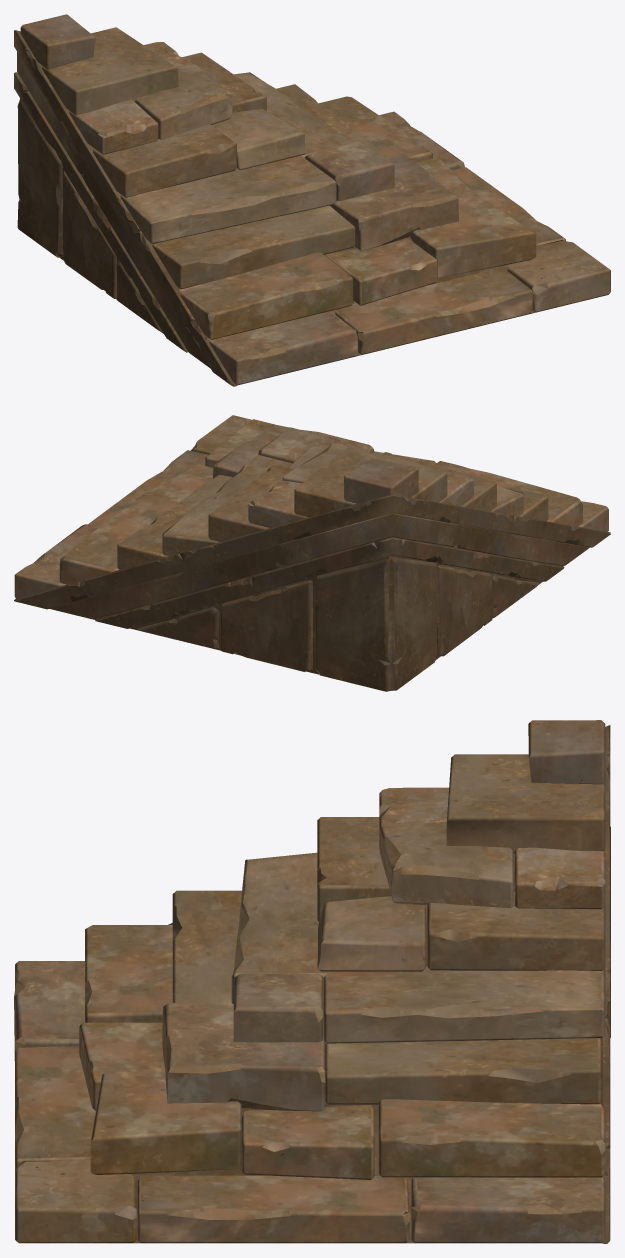
3 renders of one model, top to bottom at view 1: azimuth 30°, elevation 25°; view 2: azimuth 150°, elevation 25°; view 3: azimuth 270°, elevation 25°, orthographic. The views are drawn at different scales.
Parts seen in each view (by area): view 1: SM_Vault_4m_Stairs_Corner_01_LOD0; view 2: SM_Vault_4m_Stairs_Corner_01_LOD0; view 3: SM_Vault_4m_Stairs_Corner_01_LOD0.
Part boxes in pixels (x1,y1,x2,y2): SM_Vault_4m_Stairs_Corner_01_LOD0: [14, 14, 610, 386]; SM_Vault_4m_Stairs_Corner_01_LOD0: [14, 415, 610, 691]; SM_Vault_4m_Stairs_Corner_01_LOD0: [14, 720, 610, 1243].
Size of the model in its own units: 4.05 by 2.07 by 4.05.
Materials: 2 (2 with a texture image).
